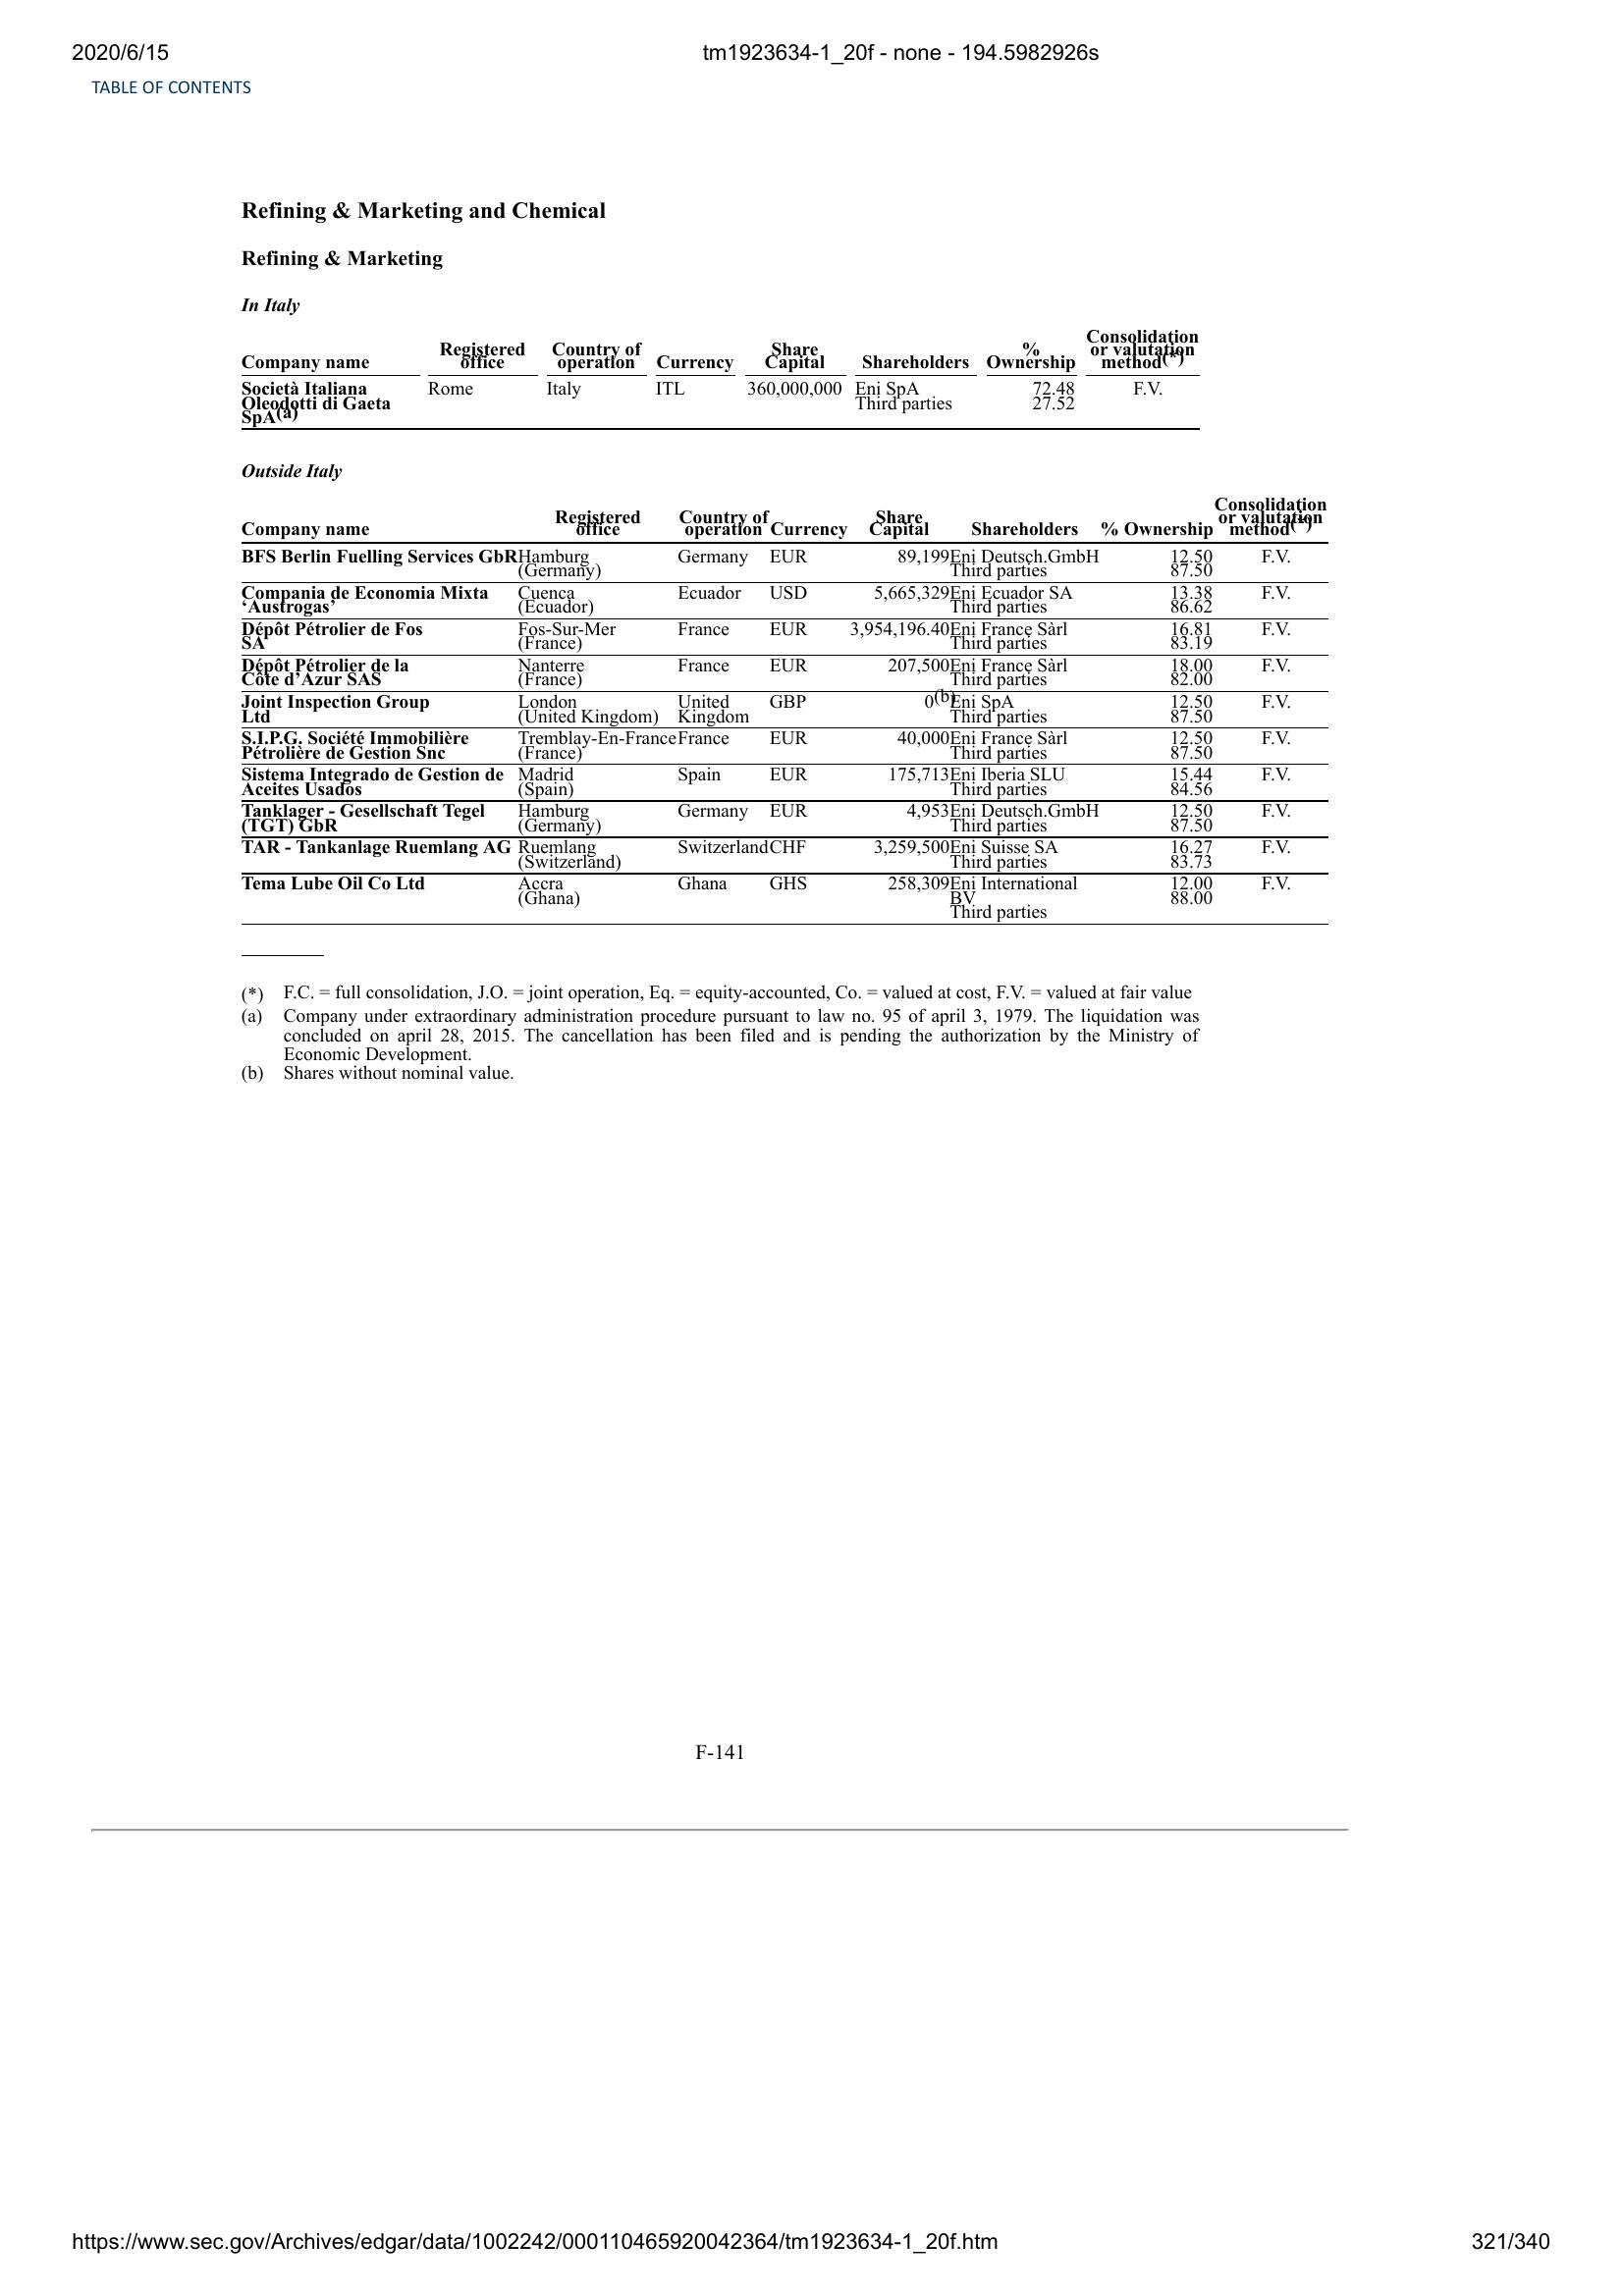table: (239, 491, 1333, 936), (235, 326, 1219, 430)
